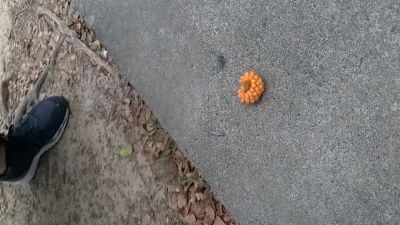eggs: (236, 70, 266, 104)
